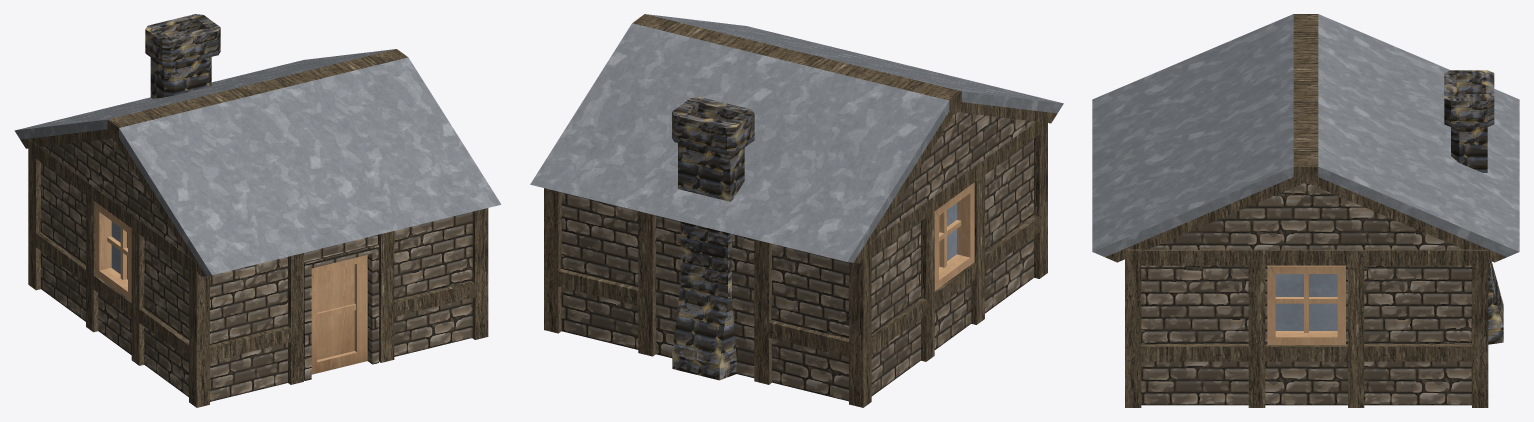
Rendered from Small House.fbx.
3 views of the same model, side by side, from view 1: azimuth 30°, elevation 25°; view 2: azimuth 150°, elevation 25°; view 3: azimuth 270°, elevation 25° (orthographic). The views are drawn at different scales.
Visible parts, largest first — view 1: mergedBlocks; view 2: mergedBlocks; view 3: mergedBlocks.
Part boxes in pixels (bbox=[...]): mergedBlocks: bbox=[14, 14, 501, 407]; mergedBlocks: bbox=[530, 14, 1063, 407]; mergedBlocks: bbox=[1092, 14, 1519, 407].
Bounding box in the file's own units: 22 × 16.4 × 25.85.
